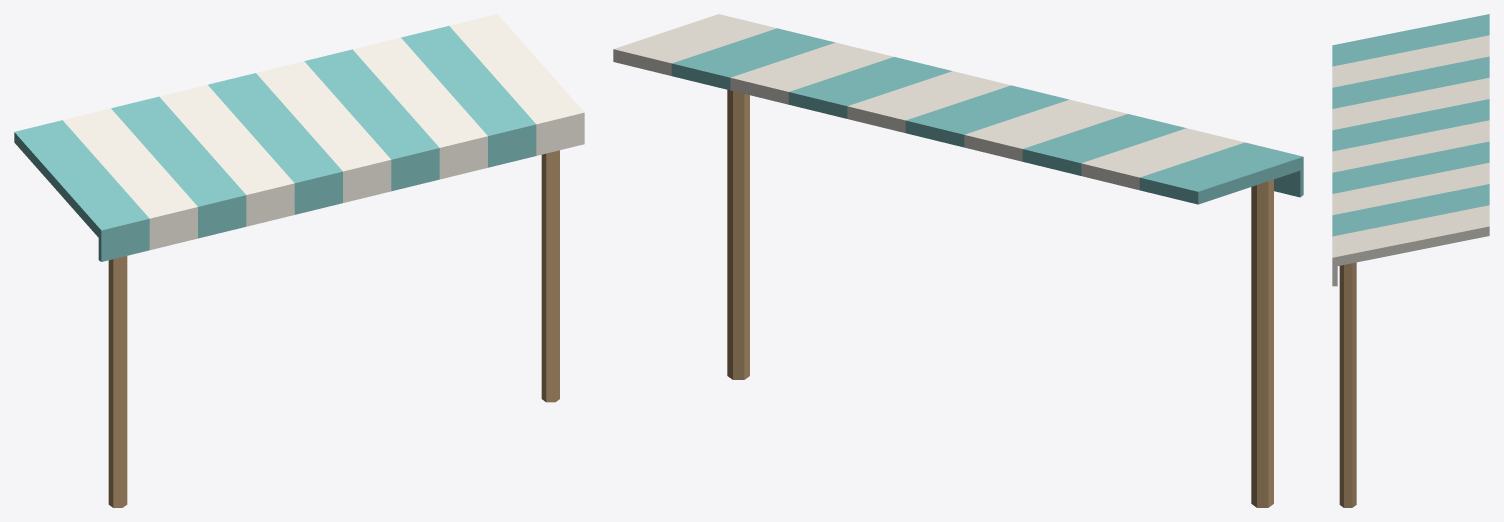
Rendered from awning_w4_8_peach.glb.
3 views of the same model, side by side, from view 1: azimuth 30°, elevation 25°; view 2: azimuth 150°, elevation 25°; view 3: azimuth 270°, elevation 25° (orthographic). The views are drawn at different scales.
Parts seen in each view (by area): view 1: Player; view 2: Player; view 3: Player.
Boxes of the visible parts, x1=… form: Player: x1=14, y1=14, x2=584, y2=507; Player: x1=613, y1=14, x2=1303, y2=507; Player: x1=1332, y1=14, x2=1489, y2=507.
Size of the model in its own units: 4.8 by 3.05 by 1.5.
